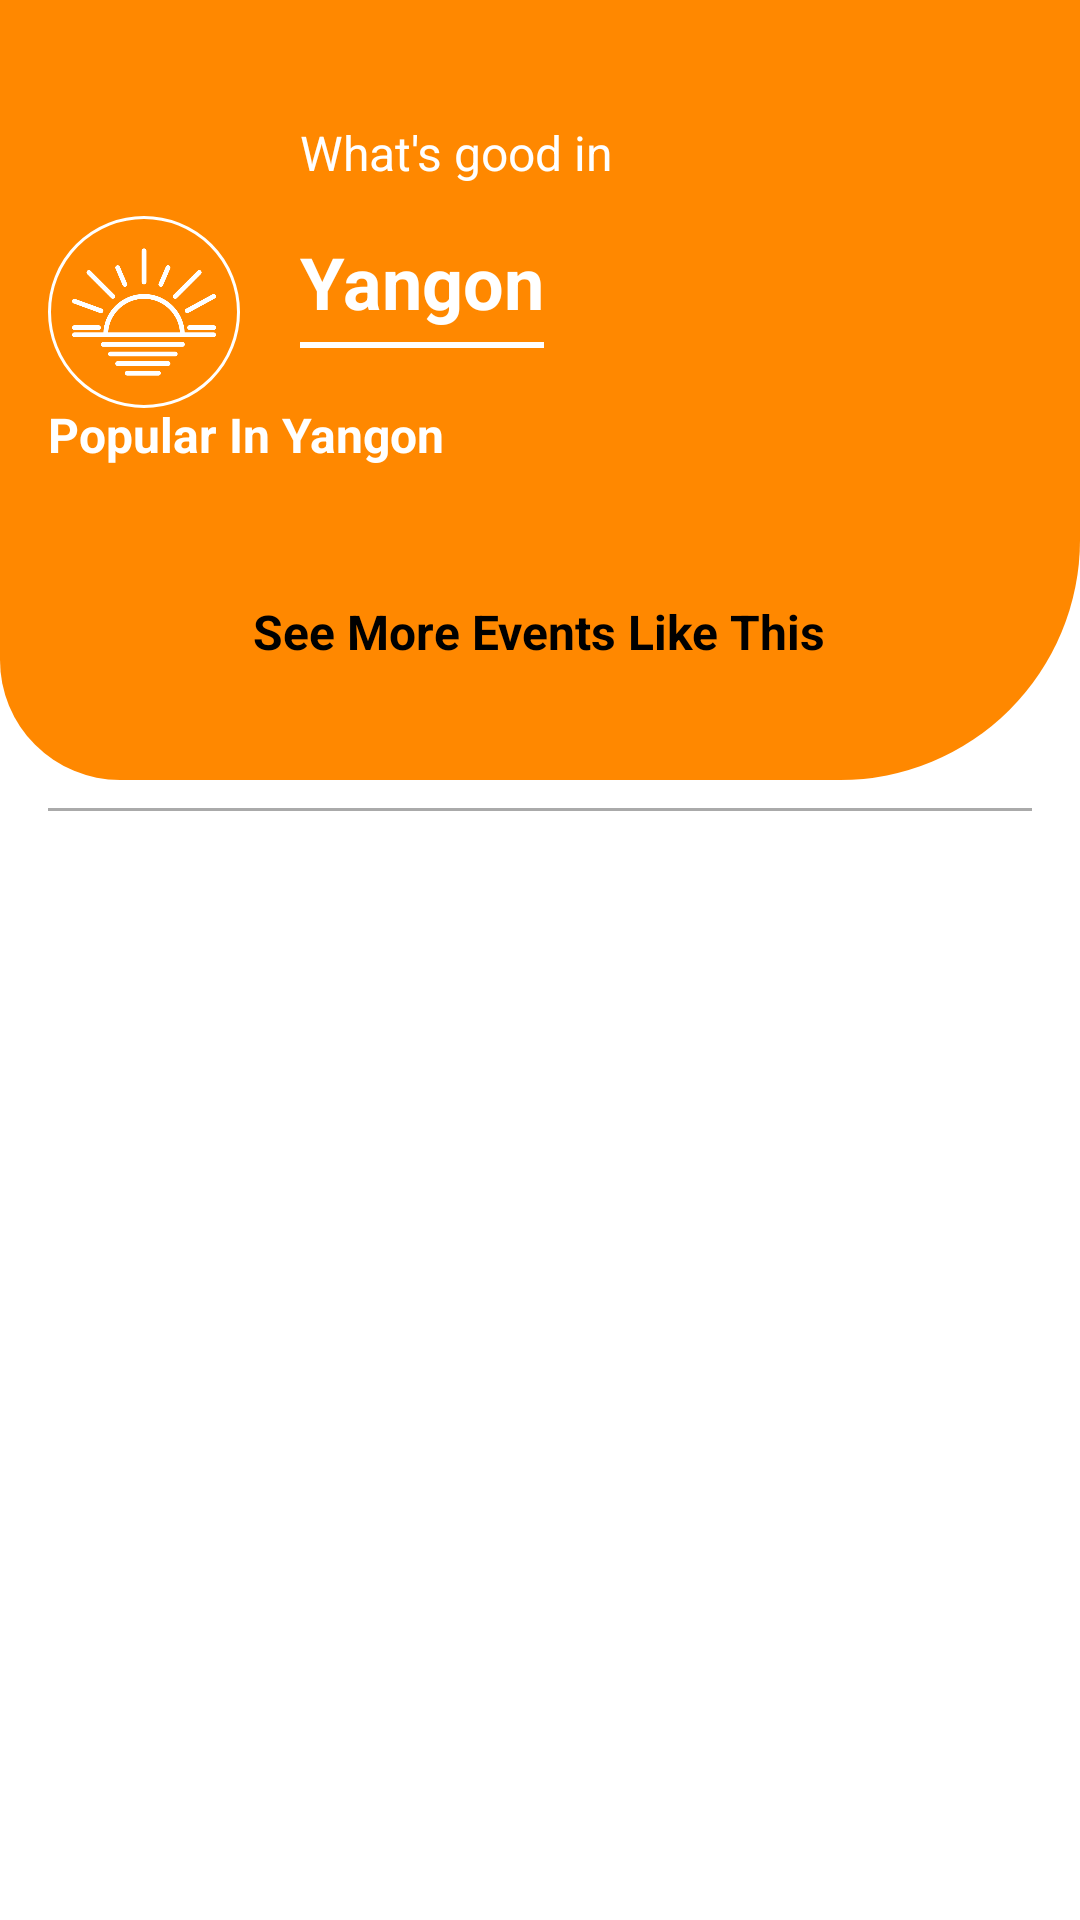

Locate icon controls on the screen. Image size 1080x1920, boxes as (x1, y1, x2, y2).
sunset: (48, 216, 240, 408)
